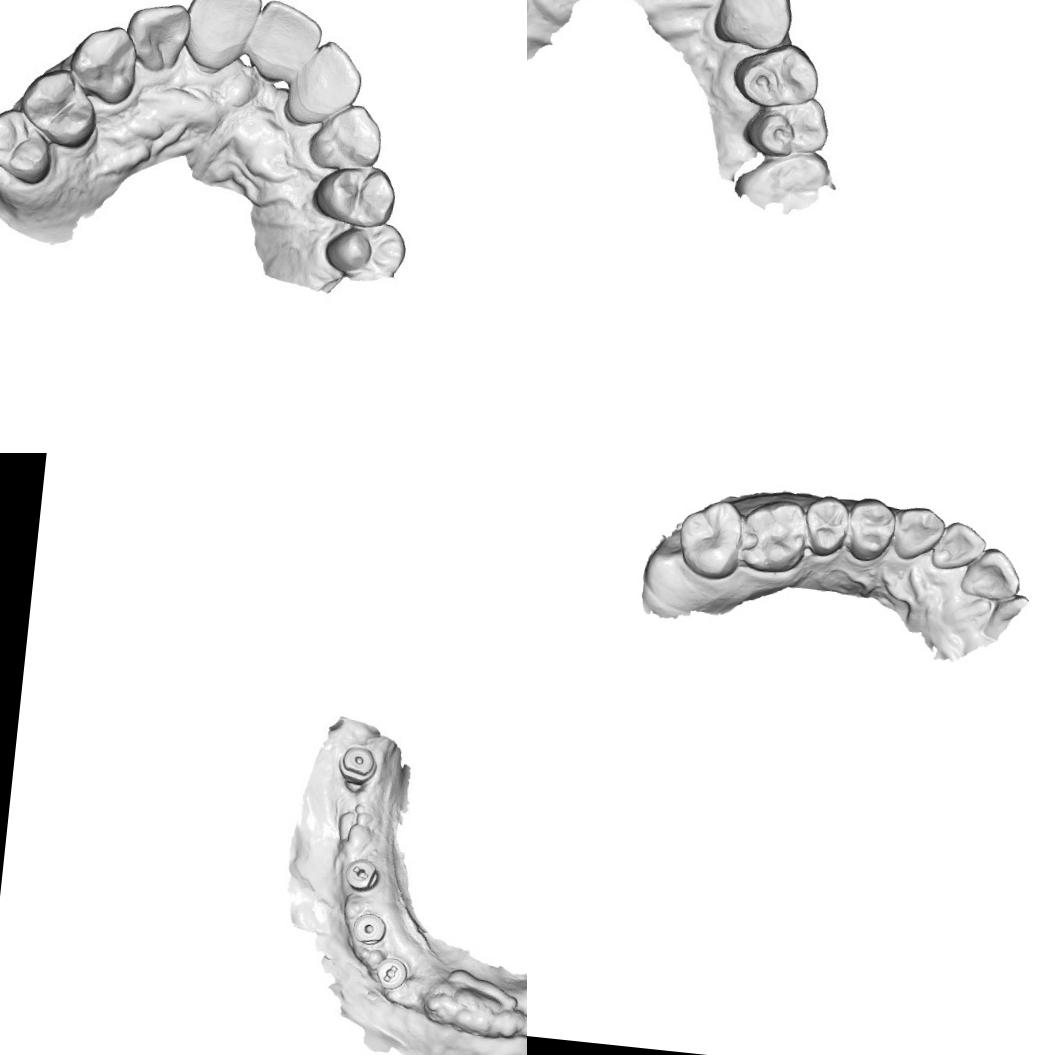canine: (305, 96, 388, 176), (72, 20, 140, 98), (714, 0, 797, 53), (889, 502, 948, 566)
implant: (339, 740, 378, 788), (348, 910, 390, 948)
implant_minus: (342, 854, 384, 894), (369, 957, 414, 994)
incisor: (242, 0, 325, 87), (285, 38, 367, 126), (179, 0, 260, 75), (120, 0, 193, 75), (956, 543, 1025, 605), (928, 517, 991, 576)
molar: (674, 494, 746, 583), (737, 493, 810, 577)
premolar: (736, 92, 832, 168), (728, 36, 820, 115), (25, 72, 102, 142), (322, 163, 398, 228), (328, 221, 406, 282), (0, 106, 54, 179), (845, 494, 899, 566), (801, 492, 851, 560)
